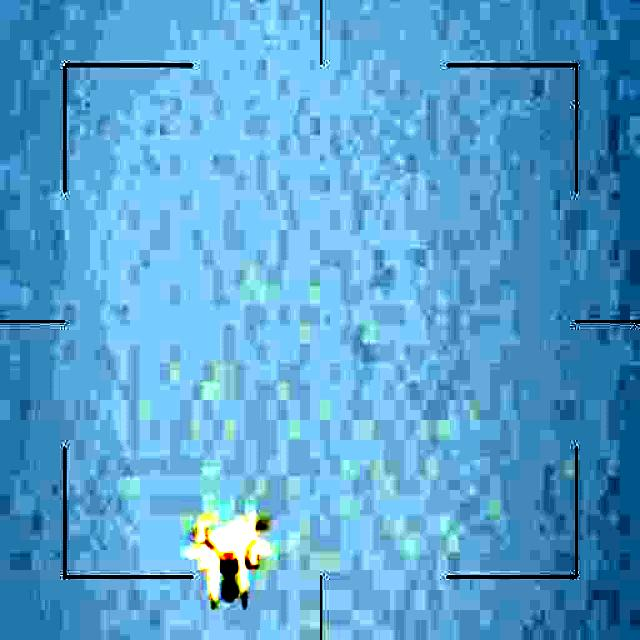bird: (185, 512, 268, 609)
